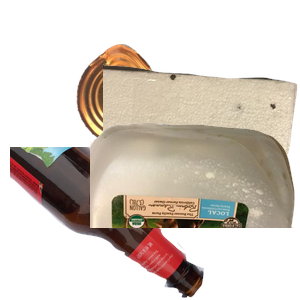glass: (10, 147, 207, 300)
metal: (74, 41, 229, 181)
plastic: (90, 120, 300, 300)
trash: (103, 62, 300, 242)
